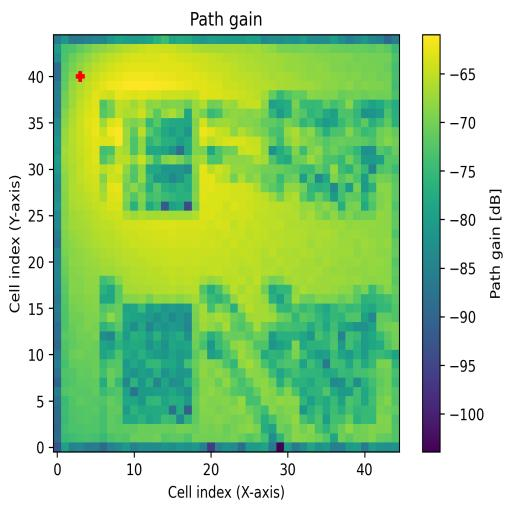Concrete: (300, 102, 377, 221)
Glass: (122, 99, 200, 210)
Metal: (300, 303, 376, 423)
Wood: (122, 303, 192, 425)
